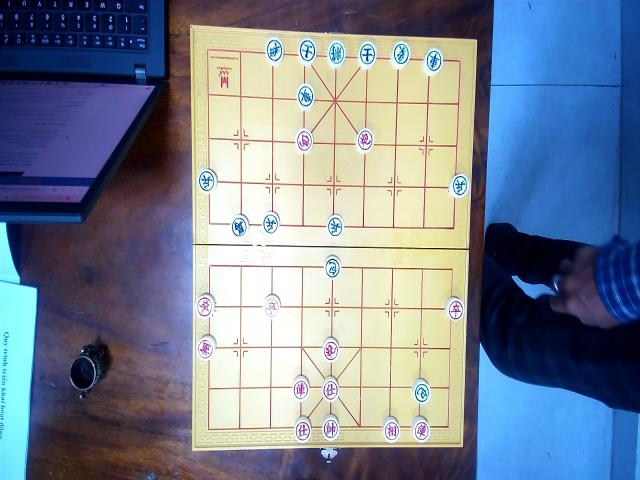piece: (448, 171, 469, 199), (390, 40, 410, 69), (422, 48, 442, 76), (326, 39, 346, 67), (264, 36, 284, 64), (196, 334, 216, 361), (410, 415, 430, 442), (294, 127, 314, 154), (195, 292, 215, 318), (444, 295, 464, 321), (354, 127, 374, 153), (381, 416, 400, 443), (411, 378, 430, 405), (322, 336, 340, 364), (197, 168, 217, 193), (294, 416, 312, 443), (292, 374, 310, 401), (298, 37, 316, 64), (358, 40, 376, 67), (296, 82, 314, 109), (322, 415, 340, 441), (230, 214, 248, 239), (321, 376, 338, 402), (326, 214, 344, 238), (262, 212, 280, 236), (324, 254, 341, 278), (264, 293, 280, 318)
